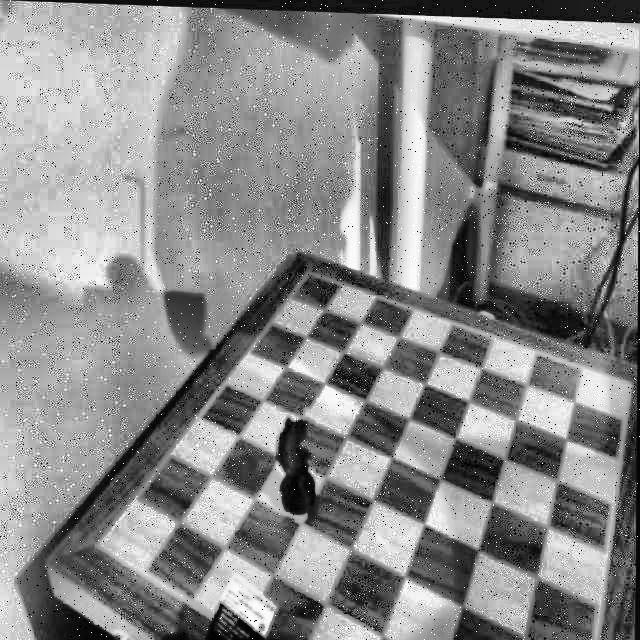black-knight: (274, 404, 318, 520)
